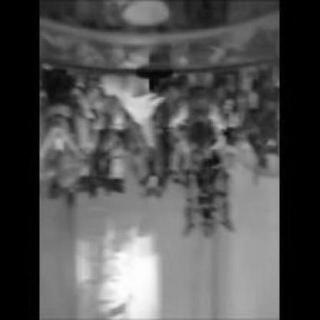other: (101, 250, 165, 312)
